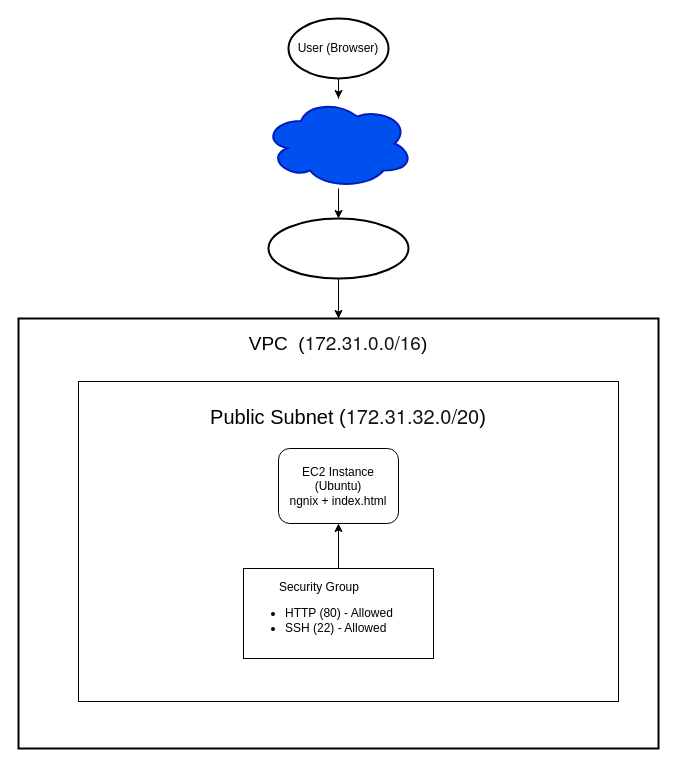
The diagram is 676 pixels wide and 766 high, and some of its shapes have lost their labels. Each missing label, with the centre of its shape:
Internet: (338,143)
Internet Gateway (IGW): (338,248)
